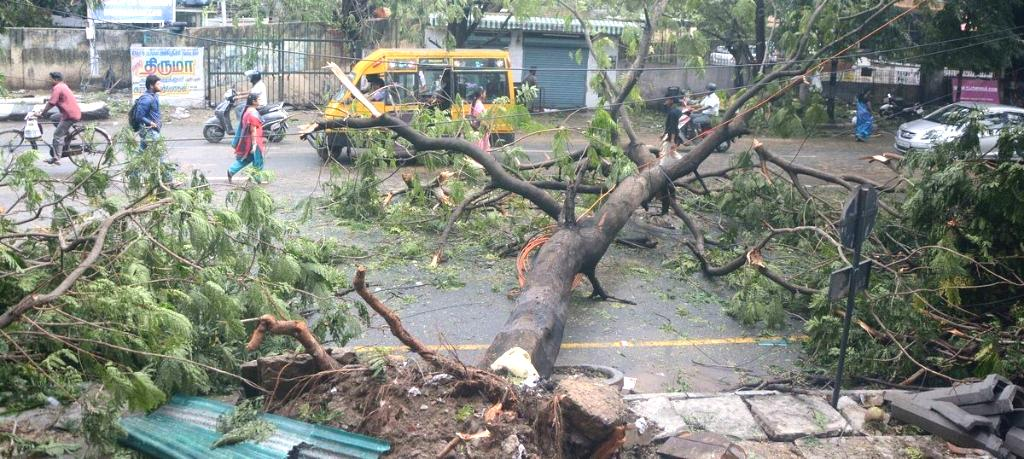ROAD_OBSTACLE: (77, 103, 947, 402)
